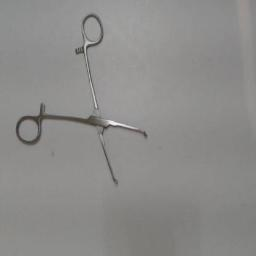Allis Tissue Forceps: (13, 6, 155, 192)
